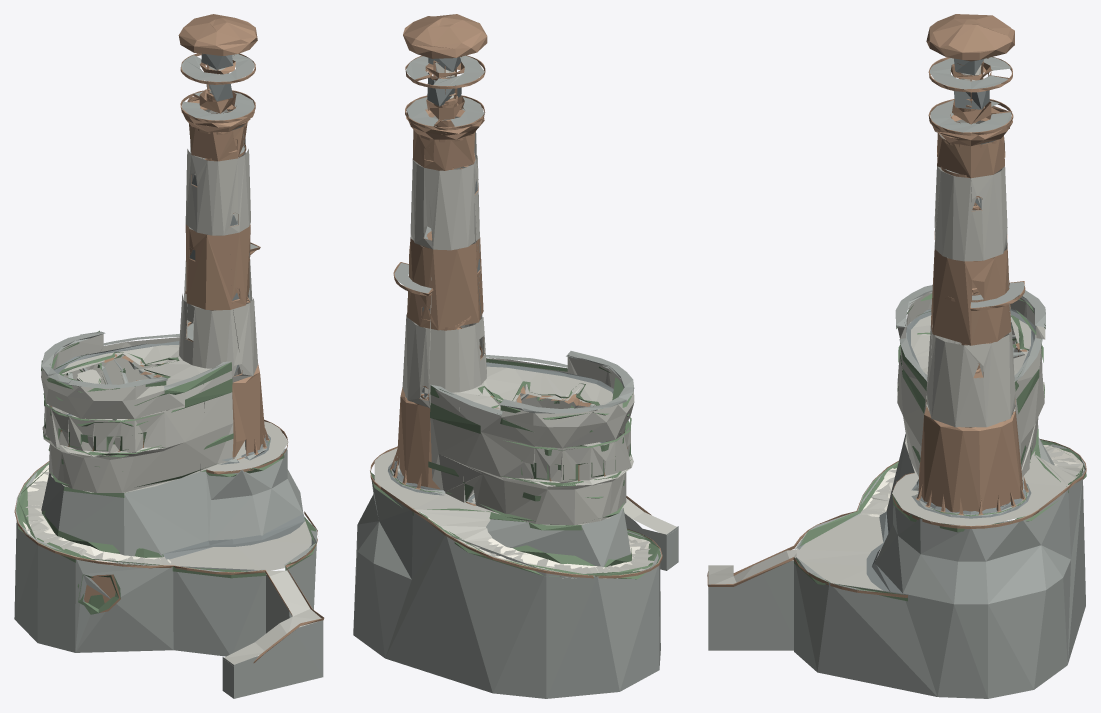
The model's file is lighthouse-map.glb.
3 renders of one model, left to right at view 1: azimuth 30°, elevation 25°; view 2: azimuth 150°, elevation 25°; view 3: azimuth 270°, elevation 25°, orthographic. The views are drawn at different scales.
Visible parts, largest first — view 1: a_lighthouse_int_LOD0, a_lighthouse_ext_LOD0; view 2: a_lighthouse_int_LOD0, a_lighthouse_ext_LOD0; view 3: a_lighthouse_int_LOD0, a_lighthouse_ext_LOD0.
Part boxes in pixels (bbox=[...]): a_lighthouse_int_LOD0: bbox=[14, 14, 324, 698]; a_lighthouse_ext_LOD0: bbox=[23, 66, 225, 563]; a_lighthouse_int_LOD0: bbox=[353, 14, 678, 698]; a_lighthouse_ext_LOD0: bbox=[428, 62, 651, 572]; a_lighthouse_int_LOD0: bbox=[707, 14, 1086, 698]; a_lighthouse_ext_LOD0: bbox=[863, 65, 1084, 516].
Size of the model in its own units: 34.17 by 69.55 by 37.57.
